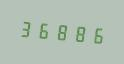eight: (52, 19, 68, 44), (69, 20, 85, 45)
six: (35, 17, 51, 43), (86, 22, 102, 47)
three: (18, 16, 34, 41)
